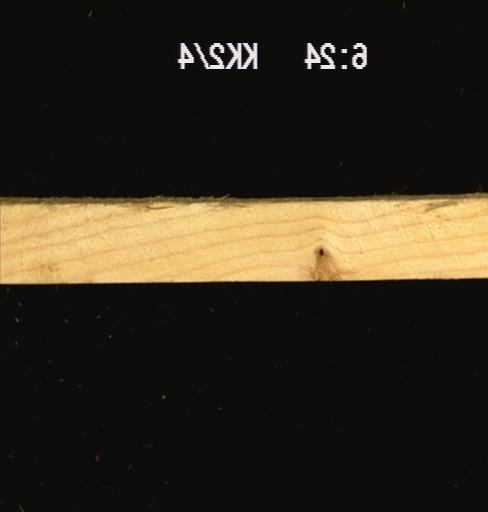small_knot: (315, 245, 325, 258)
split: (143, 201, 177, 212)
